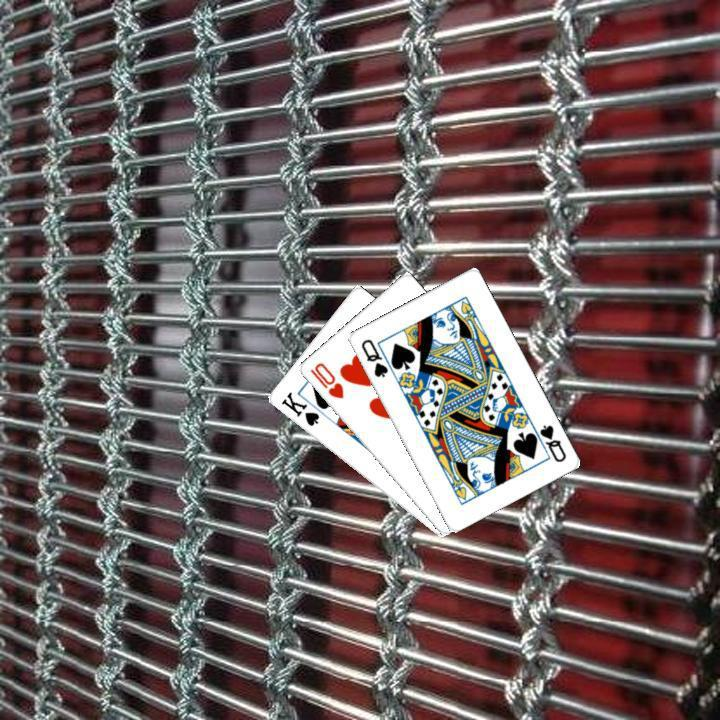10: (305, 358, 346, 401)
K: (276, 387, 321, 428)
Q: (356, 334, 390, 379), (535, 420, 568, 464)
